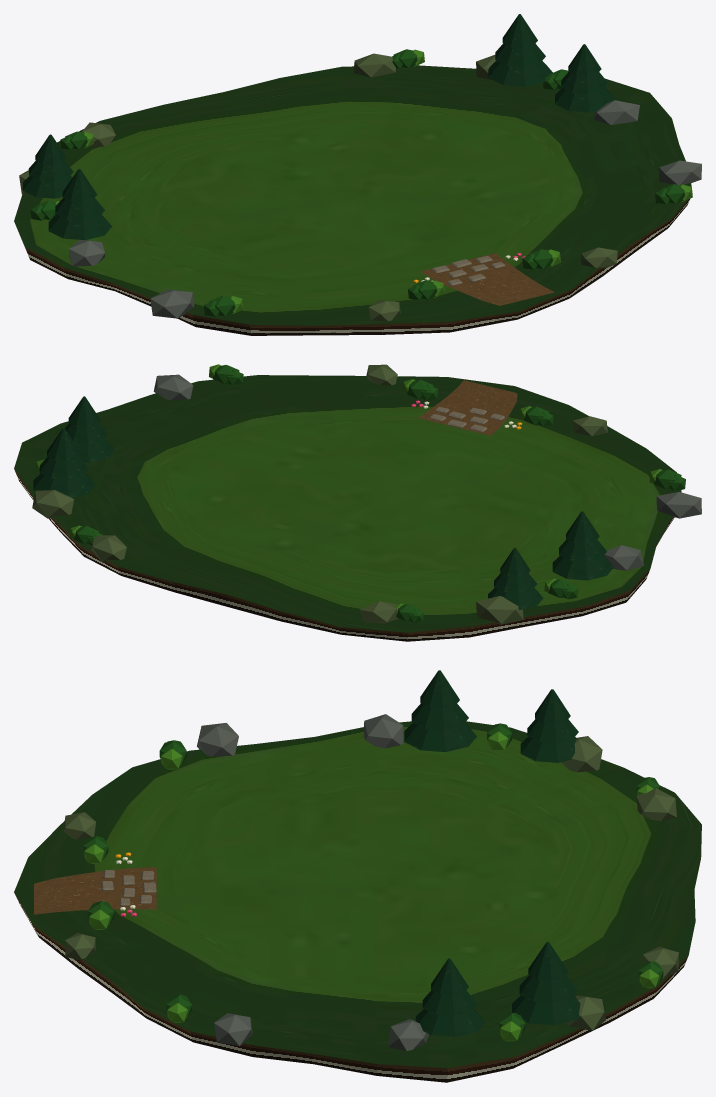
The picture shows the model from 3 angles, top to bottom: view 1: azimuth 30°, elevation 25°; view 2: azimuth 150°, elevation 25°; view 3: azimuth 270°, elevation 25°; orthographic projection. The views are drawn at different scales.
Visible parts, largest first — view 1: WK_Castle_LandscapeBase_LOD1_Balanced; view 2: WK_Castle_LandscapeBase_LOD1_Balanced; view 3: WK_Castle_LandscapeBase_LOD1_Balanced.
Boxes of the visible parts, left/top/right/bottom form: WK_Castle_LandscapeBase_LOD1_Balanced: left=14, top=14, right=701, bottom=335; WK_Castle_LandscapeBase_LOD1_Balanced: left=14, top=364, right=701, bottom=641; WK_Castle_LandscapeBase_LOD1_Balanced: left=14, top=670, right=701, bottom=1082.
Size of the model in its own units: 18.53 by 2.33 by 15.37.
Materials: 1 (1 with a texture image).
